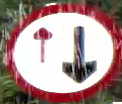Two way: (4, 3, 121, 100)
